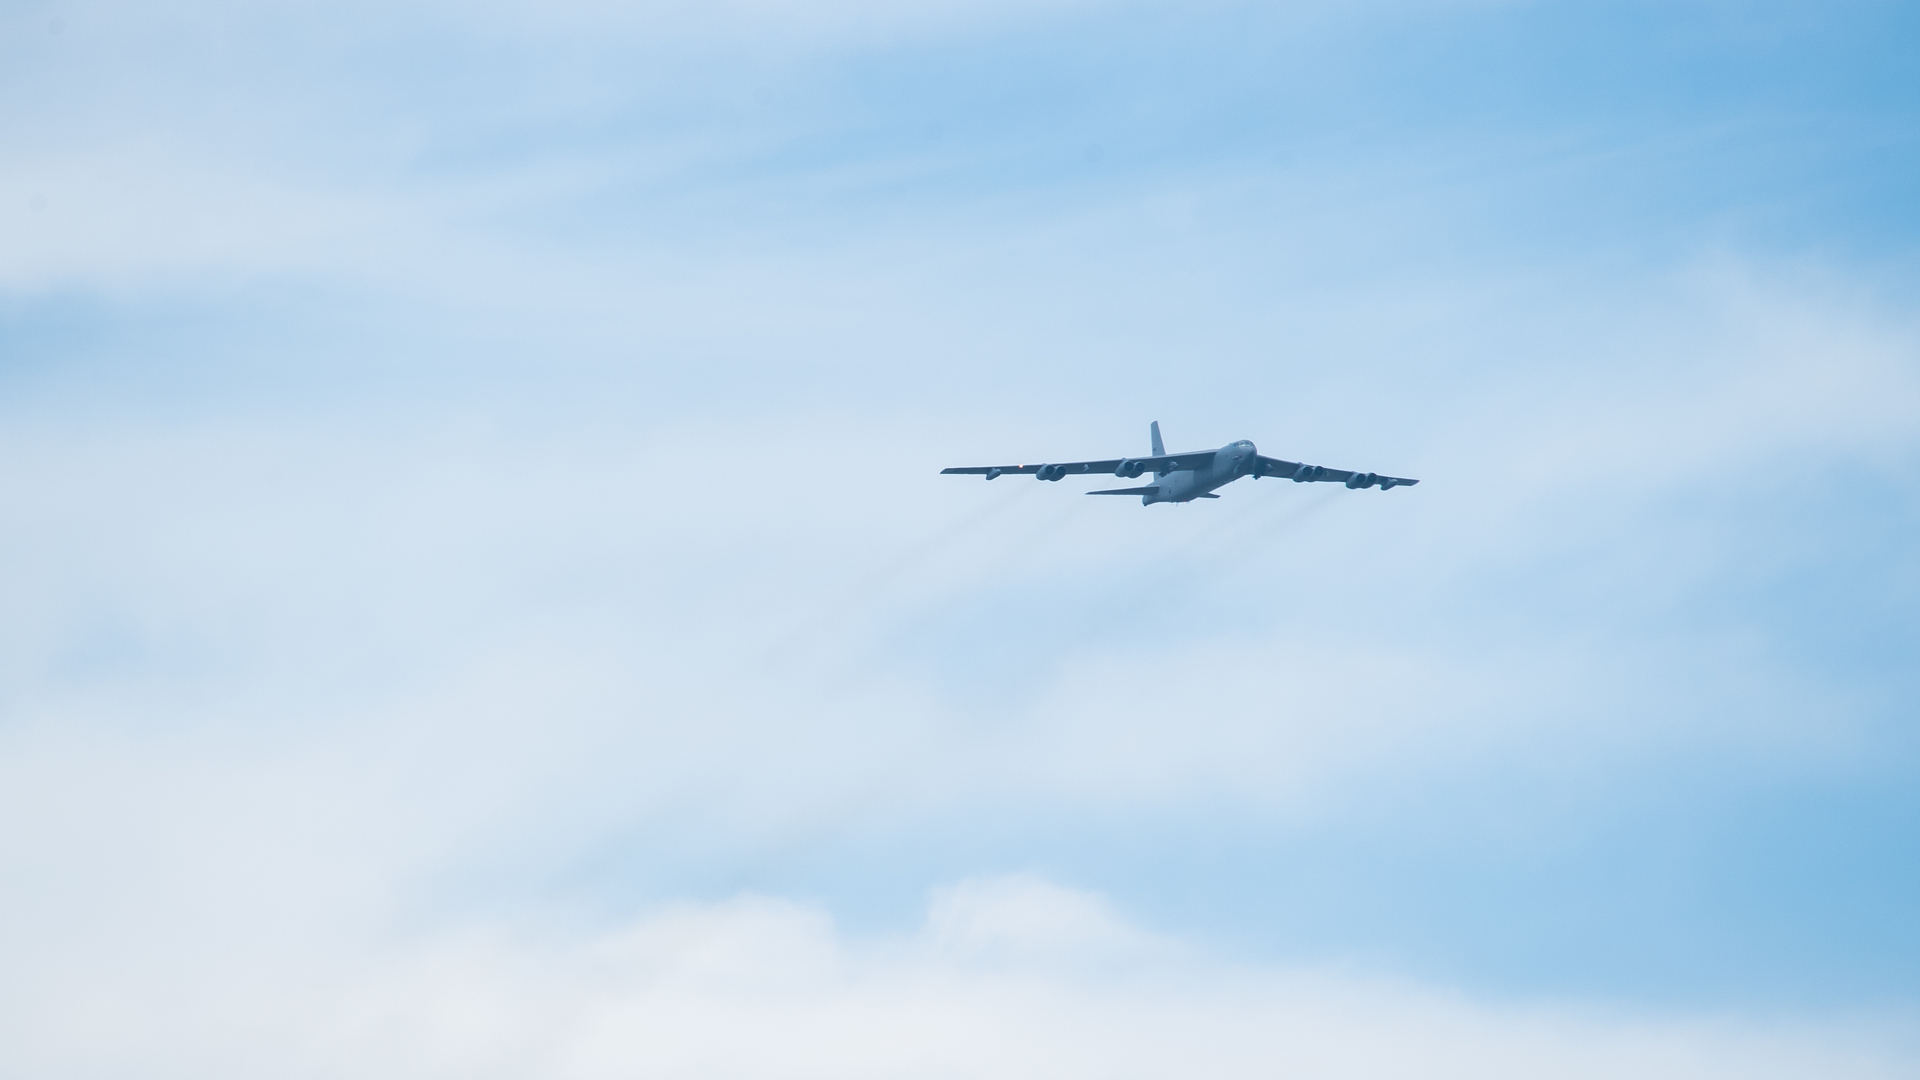B52: (938, 419, 1422, 506)
